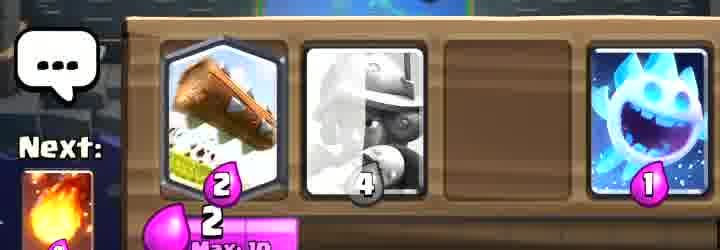fireball: (24, 172, 93, 250)
ice-spirit: (595, 45, 711, 199)
log: (168, 43, 281, 188)
